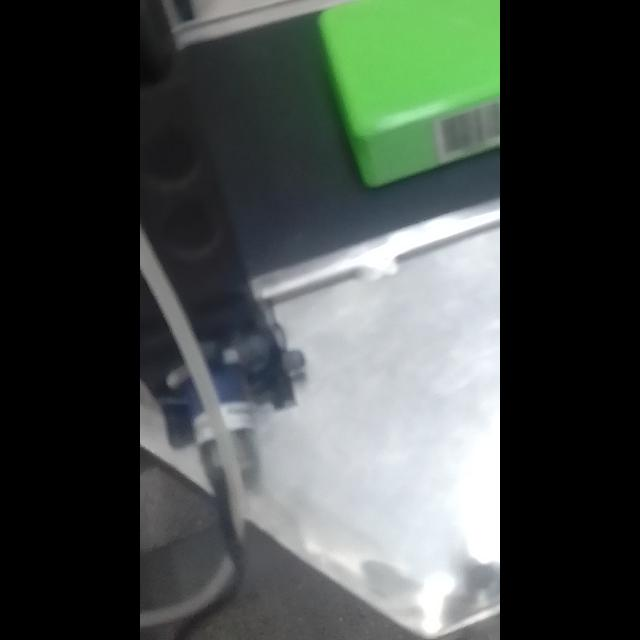greenBox: (298, 0, 500, 218)
